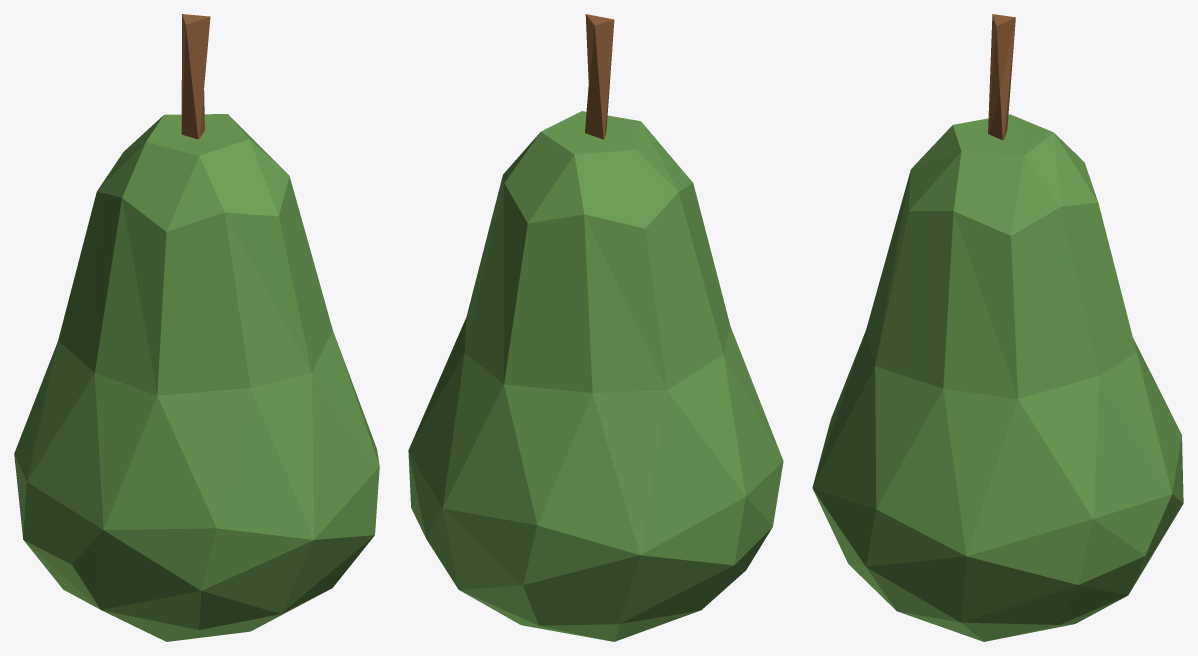
File: Pear.fbx
The picture shows the model from 3 angles, left to right: view 1: azimuth 30°, elevation 25°; view 2: azimuth 150°, elevation 25°; view 3: azimuth 270°, elevation 25°; orthographic projection.
Parts seen in each view (by area): view 1: Pear; view 2: Pear; view 3: Pear.
Boxes of the visible parts, bbox=[...] form: Pear: bbox=[14, 14, 379, 641]; Pear: bbox=[408, 14, 783, 641]; Pear: bbox=[812, 14, 1183, 641].
Size of the model in its own units: 19.37 by 34.09 by 19.36.
